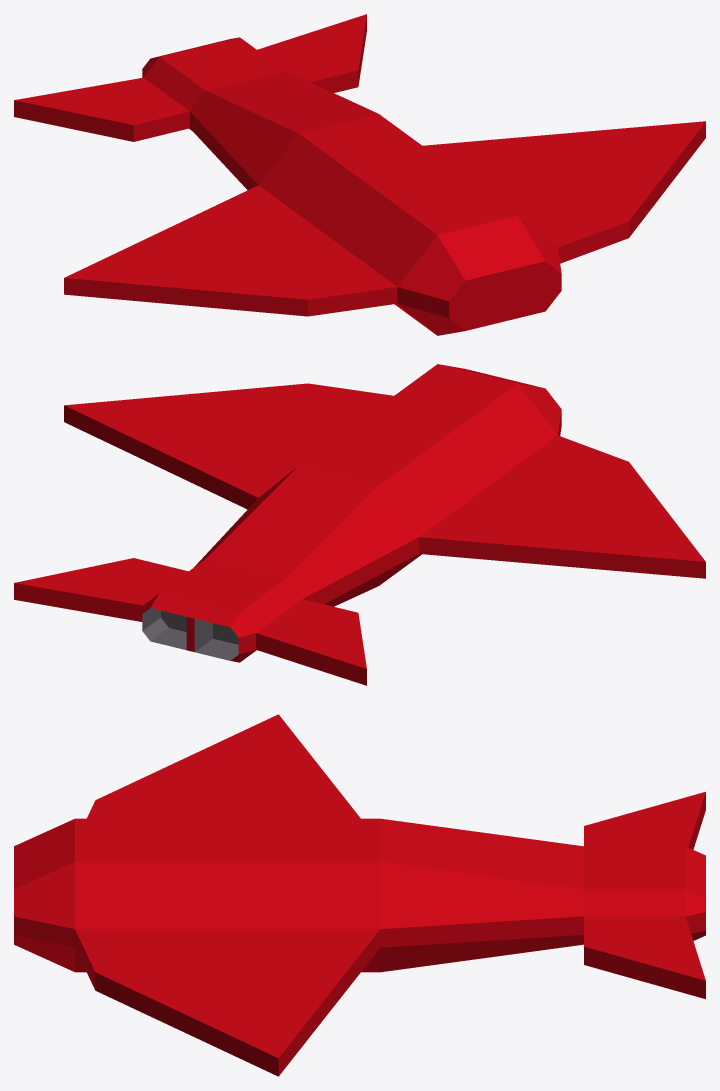
The model's file is SprinterShip.fbx.
3 views of the same model, one above another, from view 1: azimuth 30°, elevation 25°; view 2: azimuth 150°, elevation 25°; view 3: azimuth 270°, elevation 25° (orthographic). The views are drawn at different scales.
Parts seen in each view (by area): view 1: SprinterShip; view 2: SprinterShip; view 3: SprinterShip.
Part boxes in pixels (box(x1,y1,x2,y2)): SprinterShip: box(14, 14, 705, 335); SprinterShip: box(14, 364, 705, 685); SprinterShip: box(14, 714, 705, 1076).
Bounding box in the file's own units: 400 × 60 × 340.
